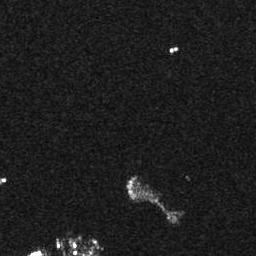ship: (169, 44, 179, 54), (56, 238, 61, 249)
